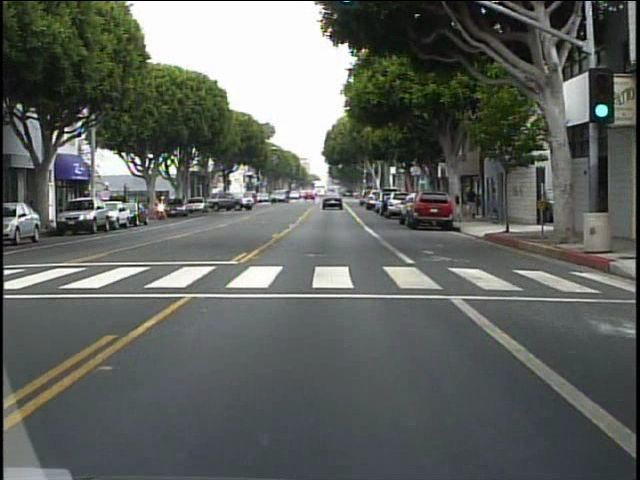person: (463, 183, 483, 224)
